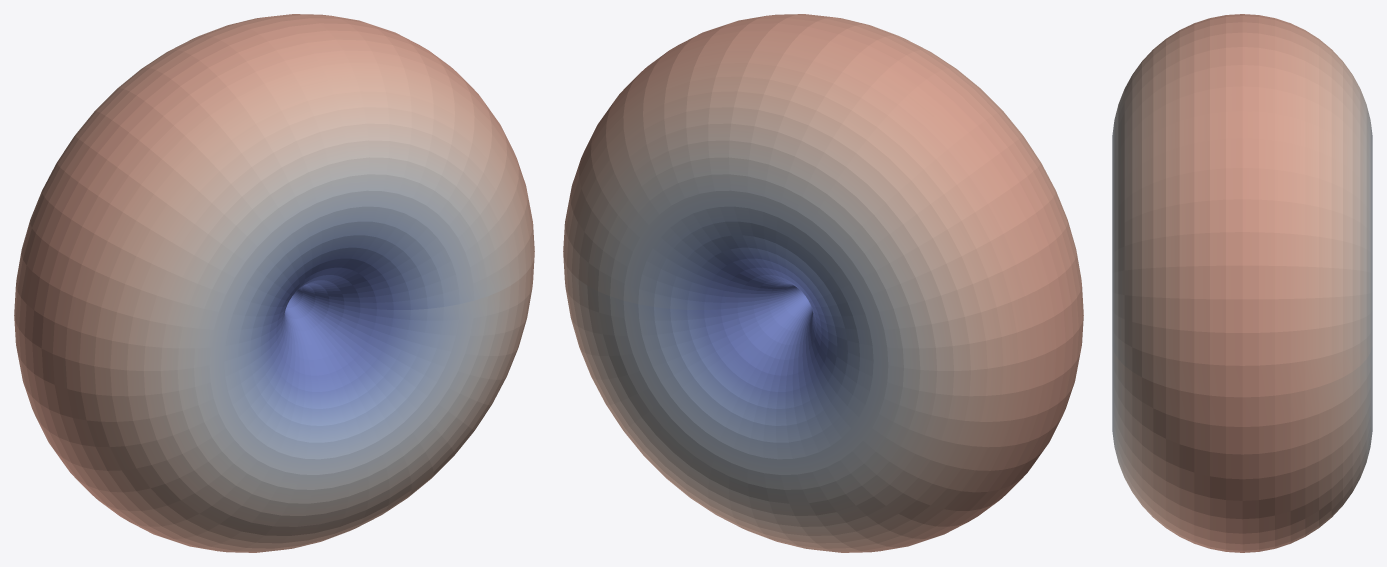
3 views of the same model, side by side, from view 1: azimuth 30°, elevation 25°; view 2: azimuth 150°, elevation 25°; view 3: azimuth 270°, elevation 25° (orthographic). The views are drawn at different scales.
Visible parts, largest first — view 1: world; view 2: world; view 3: world.
Boxes of the visible parts, x1=… form: world: x1=14, y1=14, x2=534, y2=552; world: x1=563, y1=14, x2=1083, y2=552; world: x1=1112, y1=14, x2=1372, y2=552.
Bounding box in the file's own units: 20.67 × 20.63 × 9.98.
